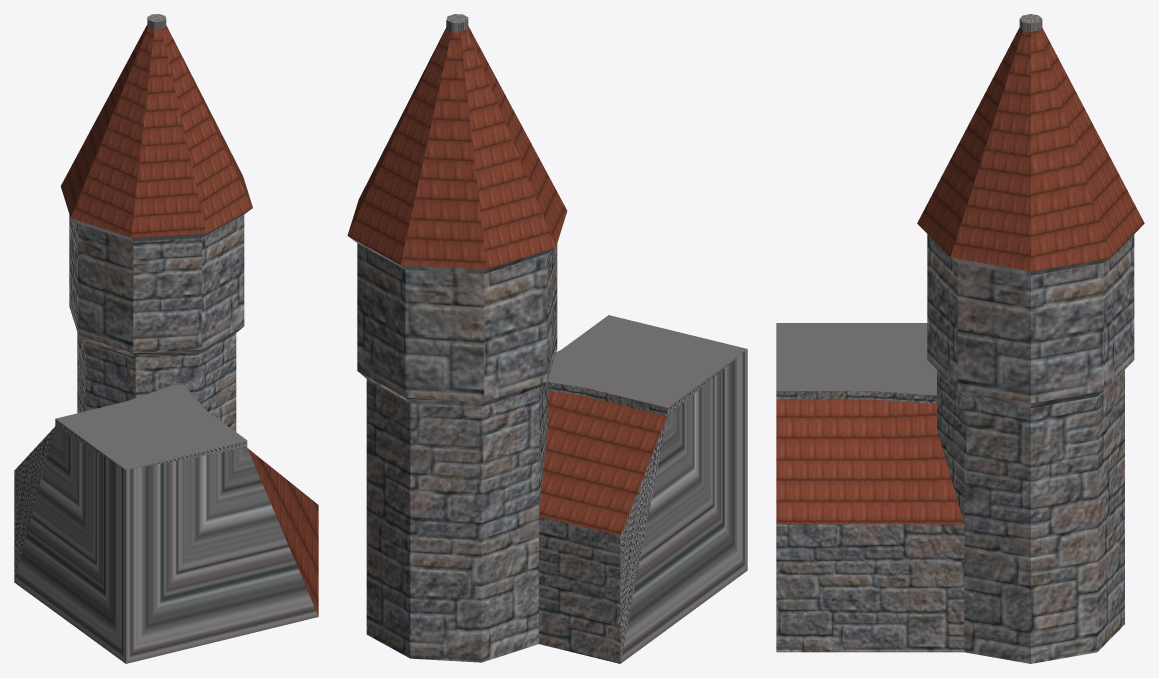
Rendered from tower_corner.glb.
3 renders of one model, left to right at view 1: azimuth 30°, elevation 25°; view 2: azimuth 150°, elevation 25°; view 3: azimuth 270°, elevation 25°, orthographic. The views are drawn at different scales.
Visible parts, largest first — view 1: tower; view 2: tower; view 3: tower.
Part boxes in pixels (box(x1,y1,x2,y2)): tower: box(14, 14, 318, 663); tower: box(347, 14, 747, 663); tower: box(776, 14, 1144, 663).
Size of what is drawn, in the model's own units: 3.21 by 7.1 by 3.92.
Materials: 2 (2 with a texture image).
